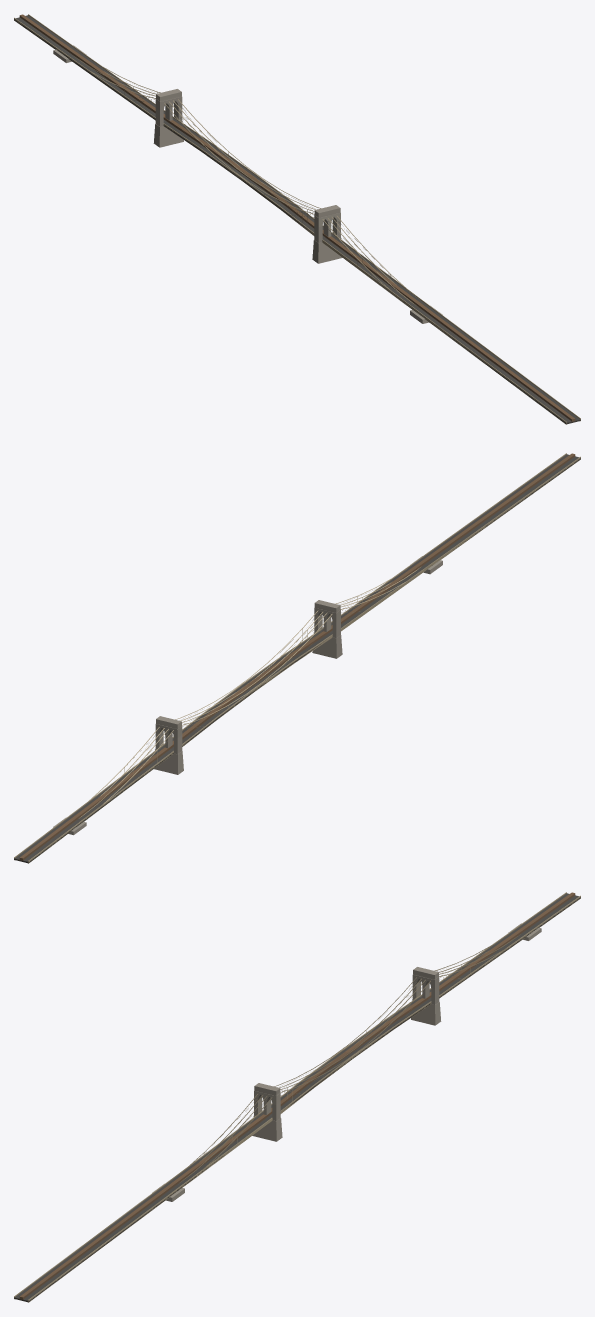
3 views of the same model, one above another, from view 1: azimuth 30°, elevation 25°; view 2: azimuth 150°, elevation 25°; view 3: azimuth 330°, elevation 25° (orthographic).
Parts seen in each view (by area): view 1: brooklyn-bridge-lod2-body; view 2: brooklyn-bridge-lod2-body; view 3: brooklyn-bridge-lod2-body.
Boxes of the visible parts, <box> form: brooklyn-bridge-lod2-body: <box>14,14,580,424</box>; brooklyn-bridge-lod2-body: <box>14,453,580,863</box>; brooklyn-bridge-lod2-body: <box>14,892,580,1302</box>.
Size of the model in its own units: 43 by 84 by 1692.
